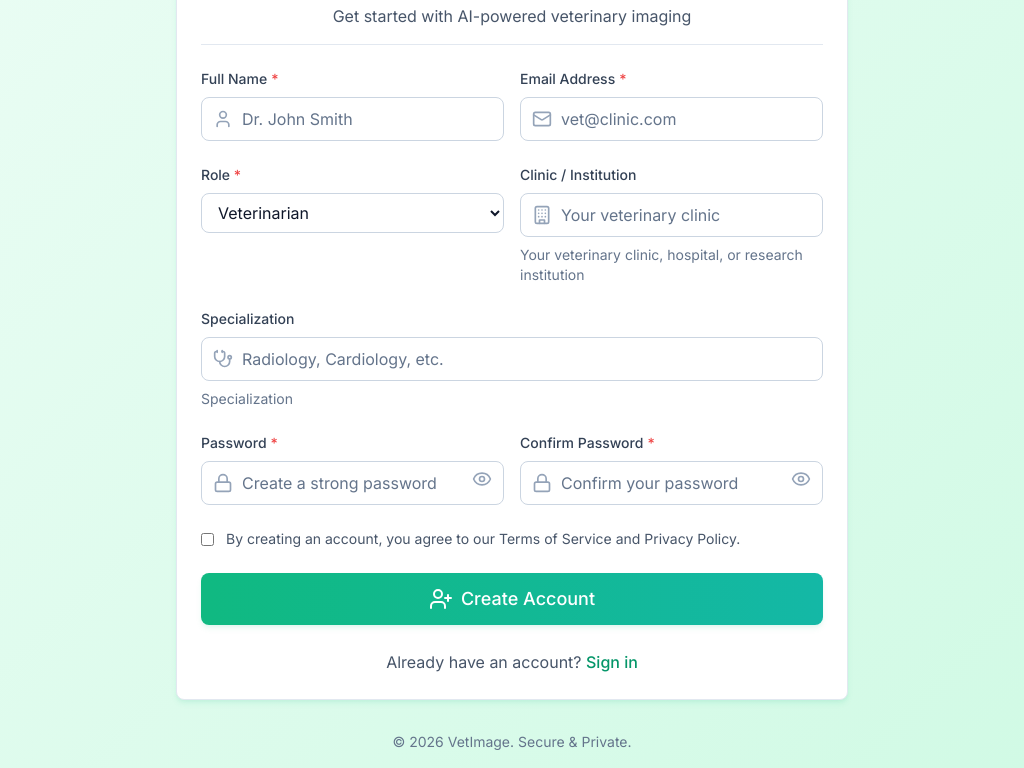
Test: RegisterPage › blocks submission and shows validation errors when empty
(page scrolled)
Click the button "Create Account" at (512, 599), box [201,573,823,625]
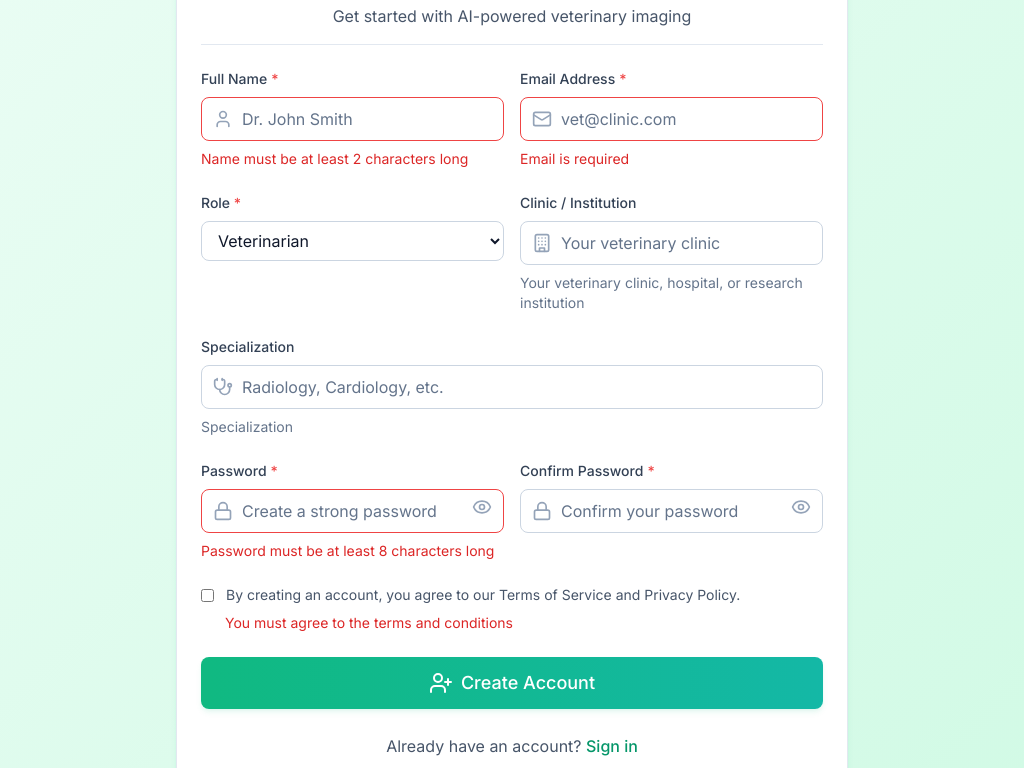
Check: the text "Name must be at least 2 characters long" is shown, box [201,149,504,169]
